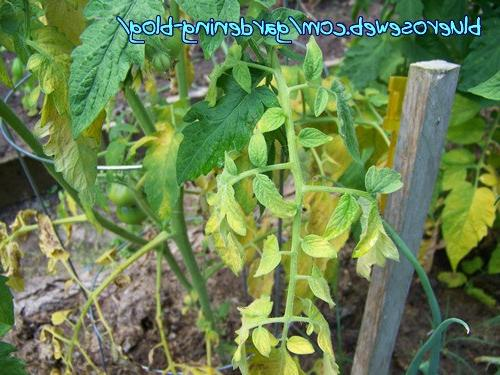Tomato leaf yellow virus: (141, 97, 192, 249), (242, 174, 294, 223), (316, 187, 357, 240), (242, 112, 272, 172), (299, 229, 339, 264)
